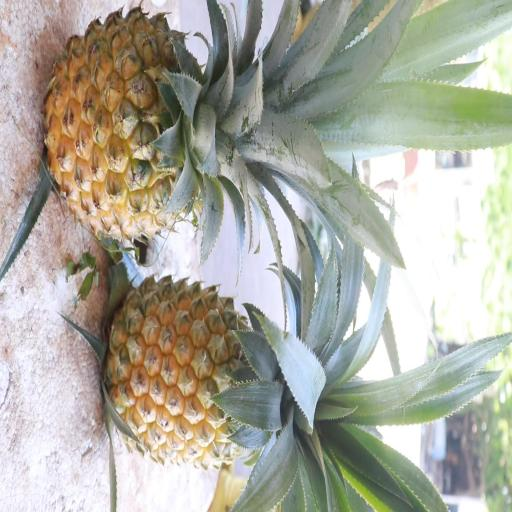Pineapple - v8 v1: (39, 0, 291, 246), (99, 269, 339, 475)
